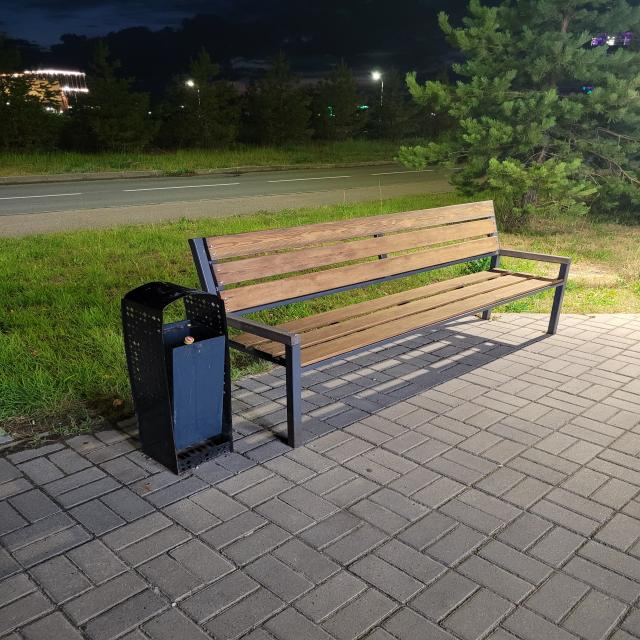Bench: (188, 201, 571, 448)
